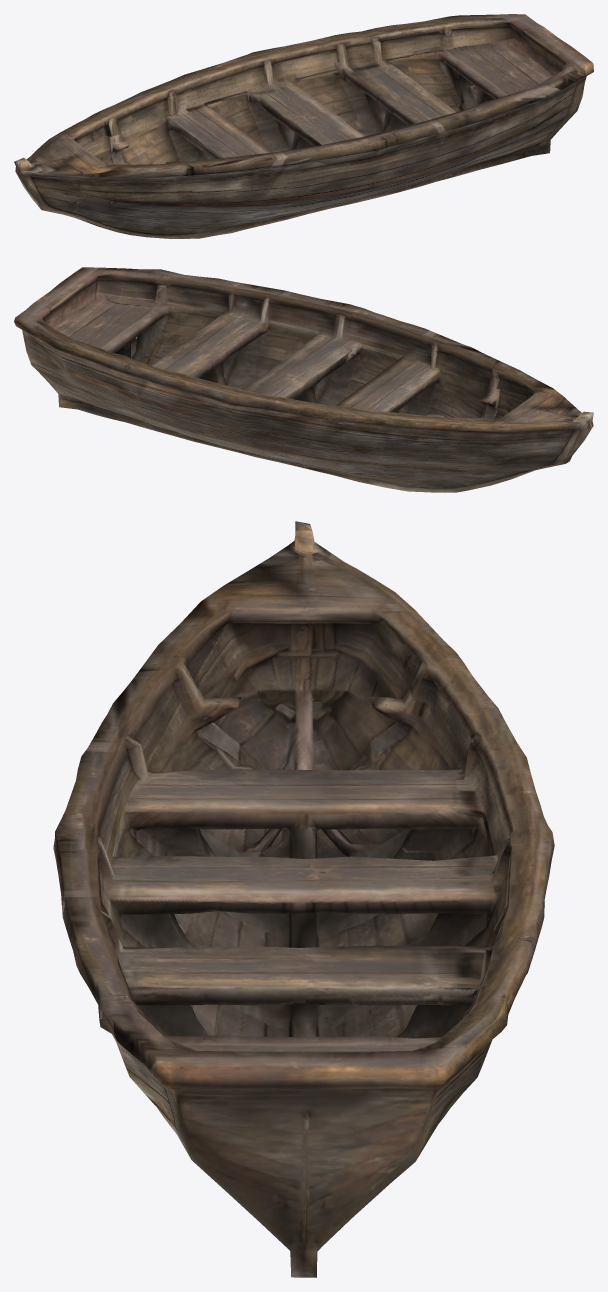
Rendered from boat.glb.
The picture shows the model from 3 angles, top to bottom: view 1: azimuth 30°, elevation 25°; view 2: azimuth 150°, elevation 25°; view 3: azimuth 270°, elevation 25°; orthographic projection. The views are drawn at different scales.
Visible parts, largest first — view 1: model; view 2: model; view 3: model.
Part boxes in pixels (<box>): model: <box>14,14,593,238</box>; model: <box>14,267,593,492</box>; model: <box>53,521,554,1277</box>.
Bounding box in the file's own units: 1.91 × 0.4103 × 0.7636.
1 material, 1 textured.
